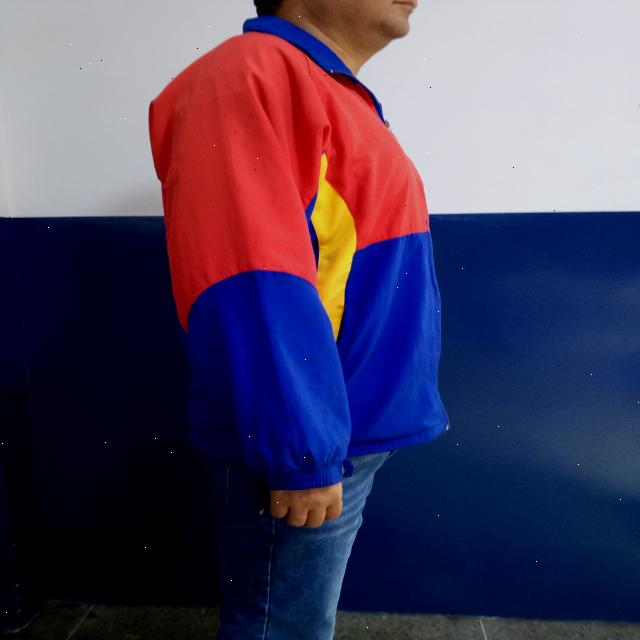chaqueta_unefa: (146, 15, 454, 491)
